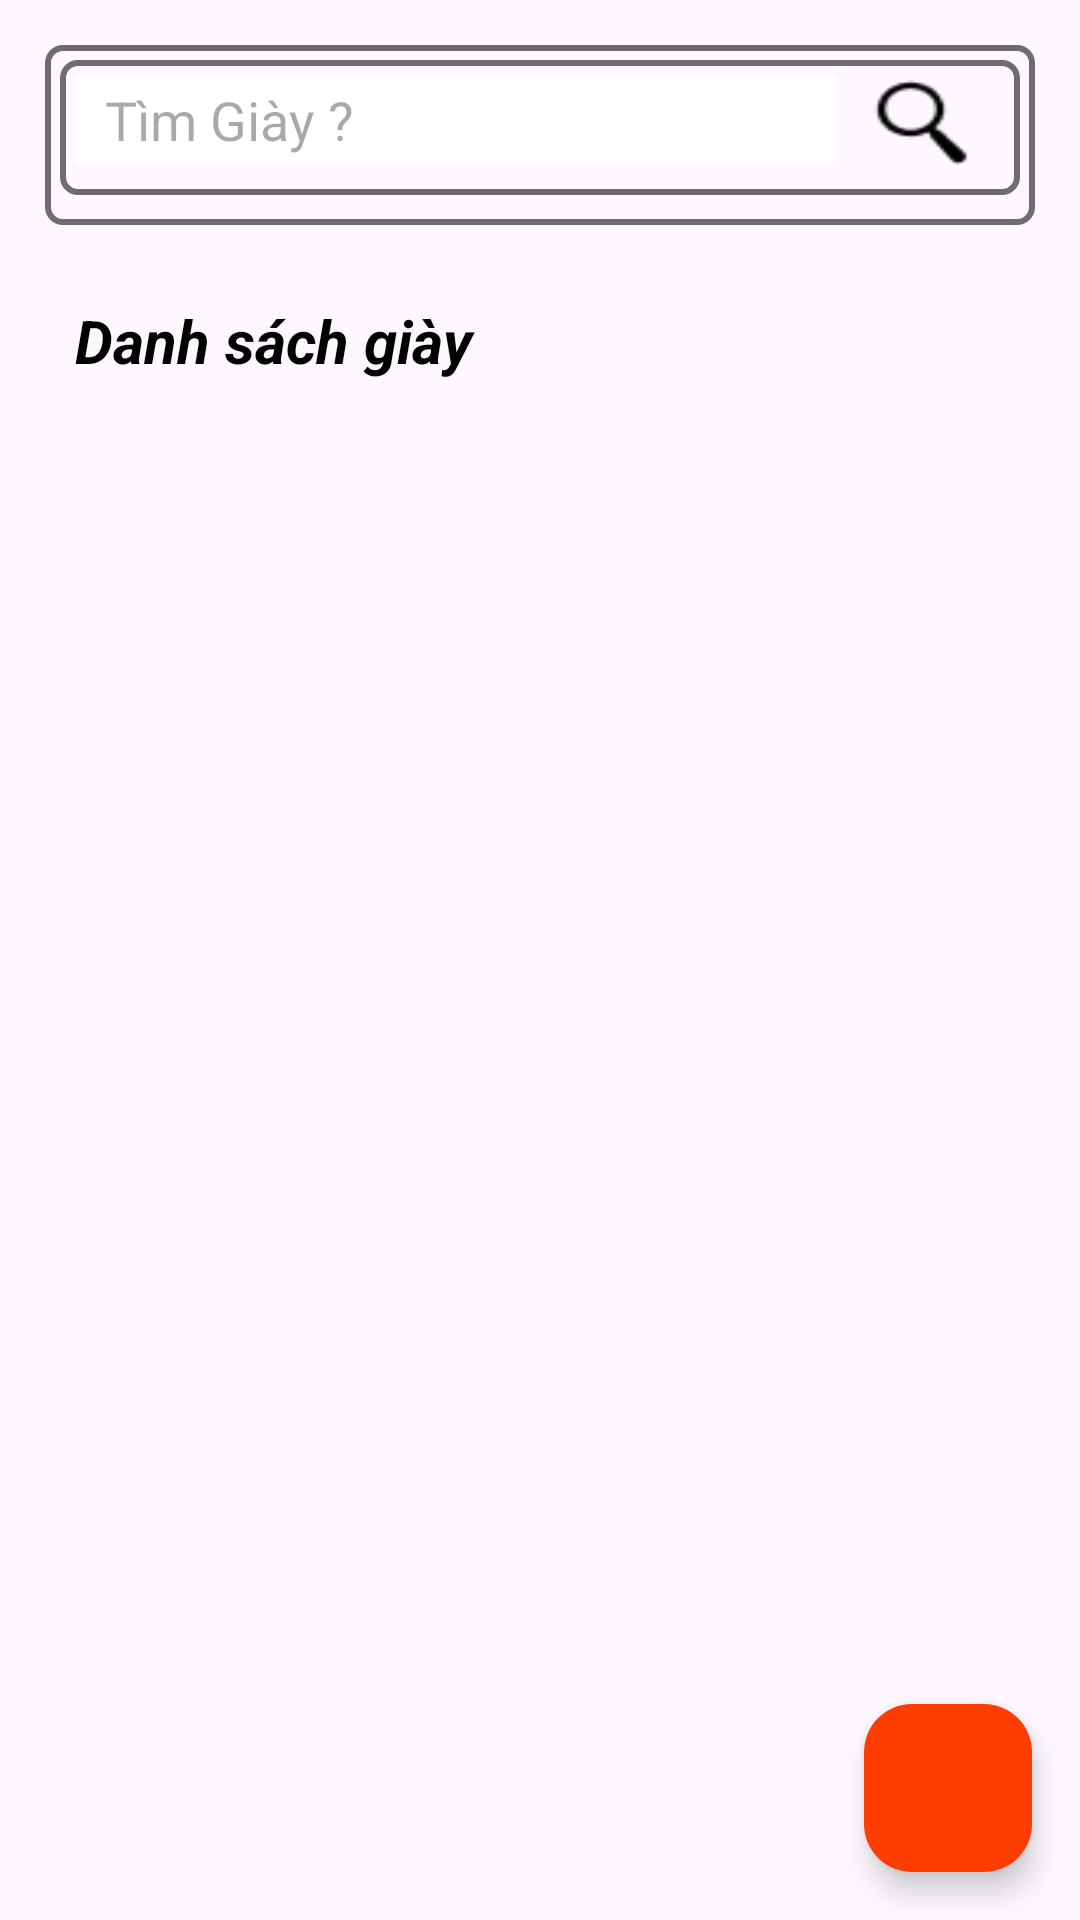

Point at icon controls on the screen. Image size 1080x1920, points as point (x, y).
timkiem: point (921, 122)
